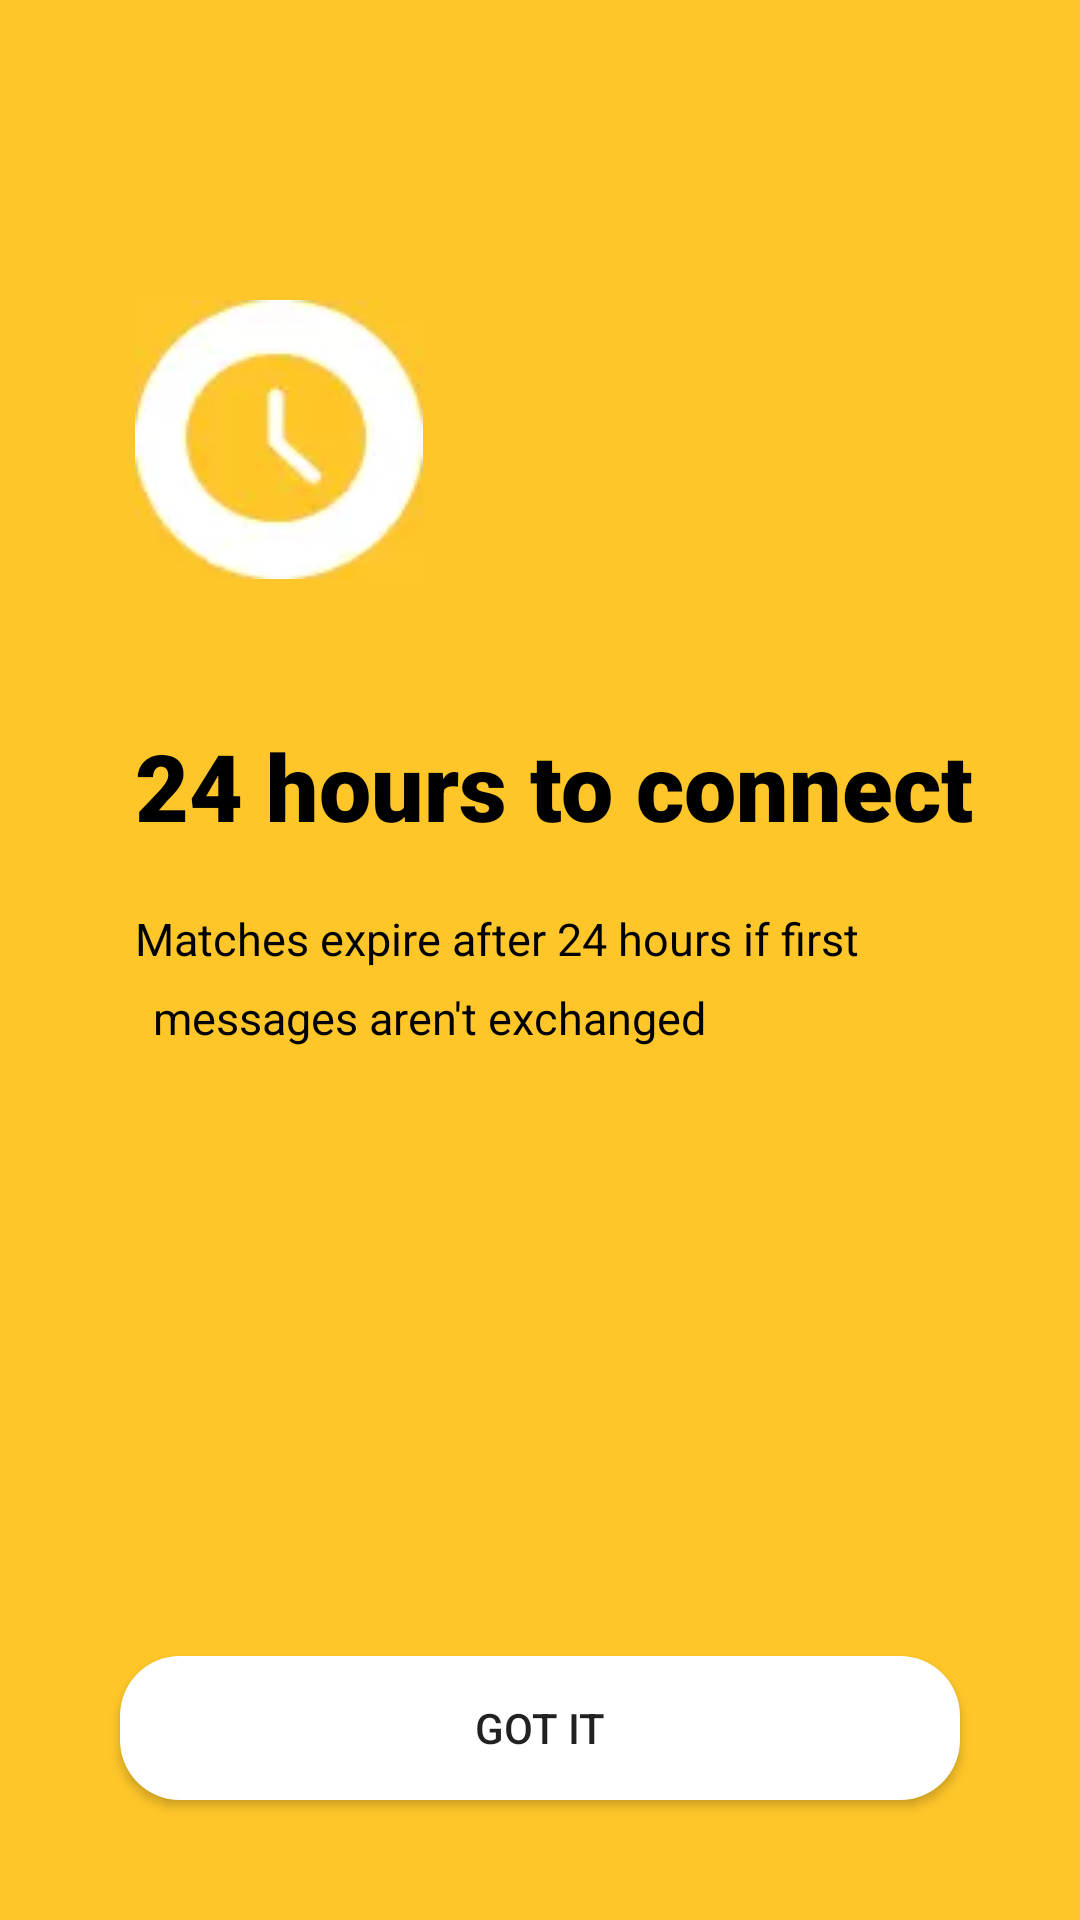

Screen size 1080px×1920px. Icon name, then its center in pixels as (x,y):
clock: (279,439)
